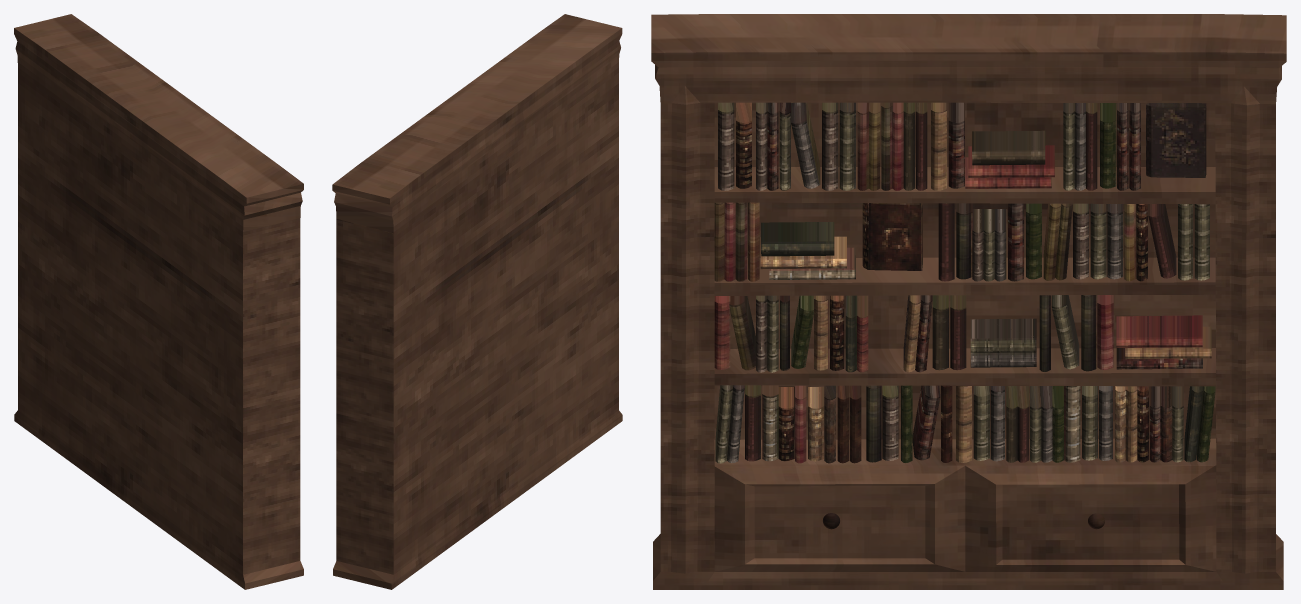
File: bookshelf.obj
The picture shows the model from 3 angles, left to right: view 1: azimuth 30°, elevation 25°; view 2: azimuth 150°, elevation 25°; view 3: azimuth 270°, elevation 25°; orthographic projection. The views are drawn at different scales.
Parts seen in each view (by area): view 1: Cube.002; view 2: Cube.002; view 3: Cube.002.
Part boxes in pixels (x1,y1,x2,y2): Cube.002: (14,14,303,589); Cube.002: (332,14,622,589); Cube.002: (651,14,1286,589).
Bounding box in the file's own units: 1.27 × 7.05 × 7.56.
